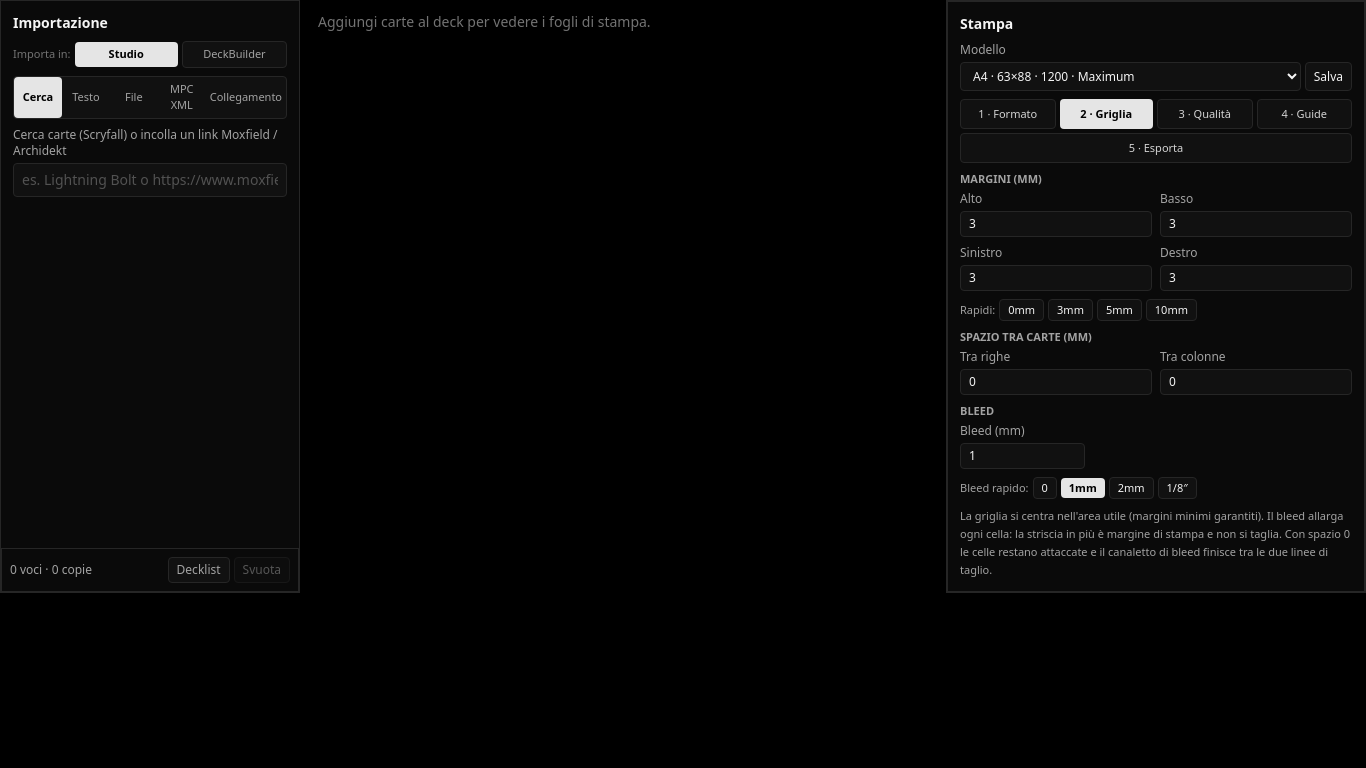
Test: PrintForm guide › livello Qualità: dorso di default facoltativo (nessuno di default)
Click the tab "3 · Qualità". click: (1205, 114)
box: [1157, 99, 1252, 129]
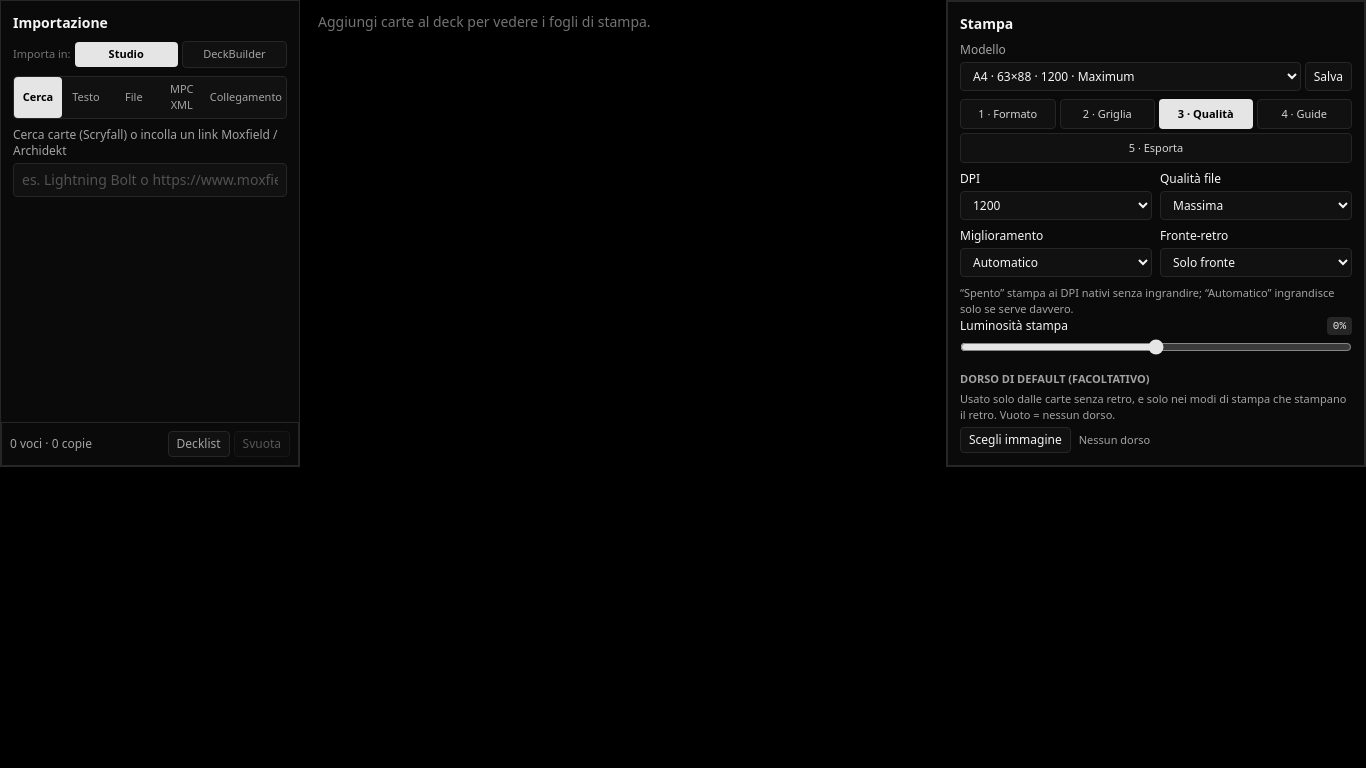
Check: the heading "Dorso di default (facoltativo)" is shown, box [960, 371, 1149, 386]
Check: the text "Nessun dorso" is shown, box [1079, 432, 1150, 448]
Check: the file field "Scegli immagine" is shown, box [960, 427, 1071, 453]
